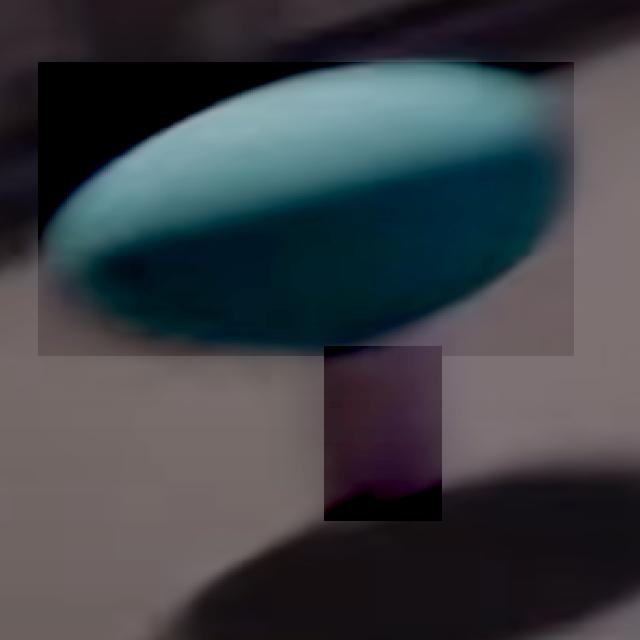Algae: (38, 62, 574, 356)
Coral: (324, 346, 442, 521)
